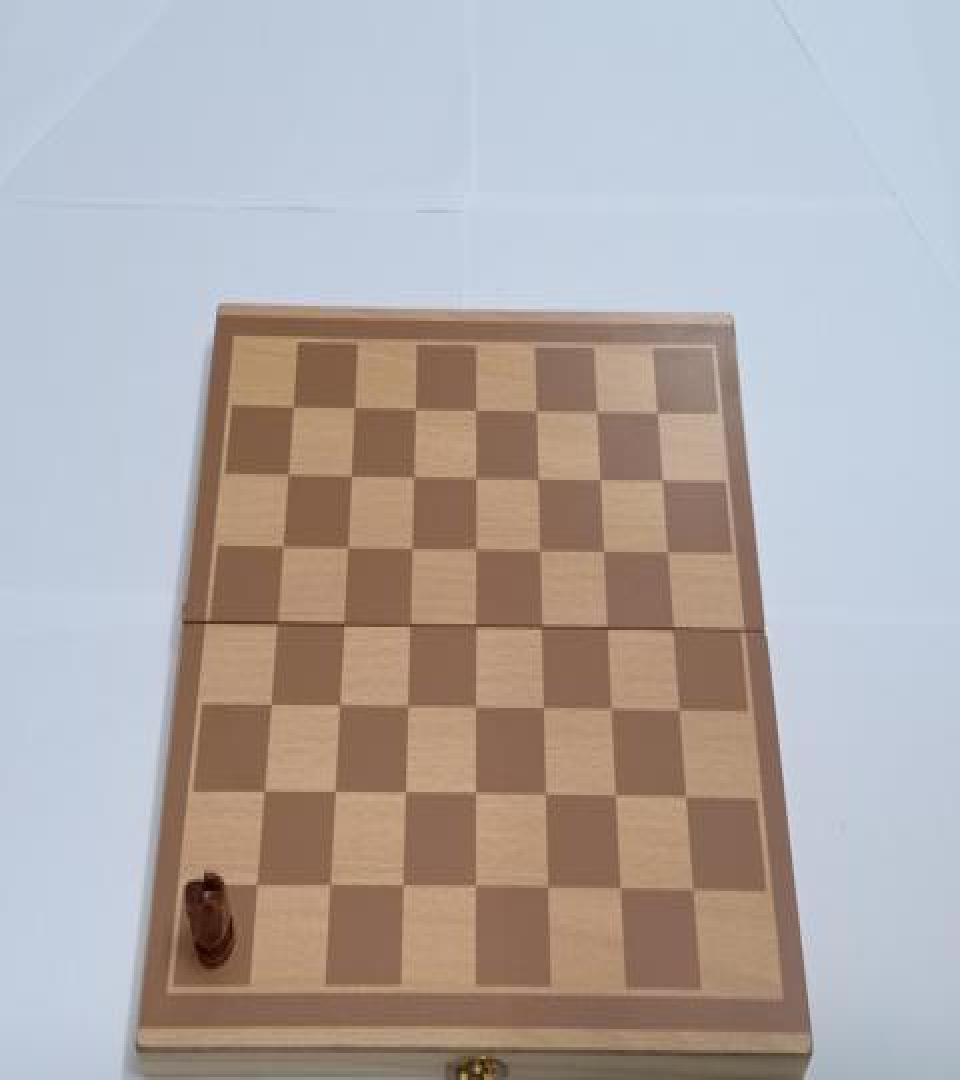xcorner: (404, 394, 422, 422), (466, 394, 484, 422), (655, 466, 673, 494), (276, 462, 294, 489), (260, 696, 278, 723), (253, 783, 271, 810), (343, 393, 361, 420), (340, 462, 358, 489), (329, 696, 347, 723), (325, 785, 343, 812), (402, 537, 420, 564), (398, 696, 416, 723), (397, 785, 415, 812), (467, 537, 485, 564), (467, 615, 485, 642), (468, 785, 486, 812), (527, 396, 545, 423), (529, 465, 547, 492), (531, 538, 549, 565), (534, 615, 552, 642), (539, 785, 557, 812), (588, 396, 606, 423), (592, 465, 610, 492), (596, 538, 614, 565), (600, 617, 618, 644), (609, 785, 627, 812), (649, 397, 667, 424), (660, 540, 678, 567), (666, 617, 684, 644), (673, 699, 691, 726), (680, 786, 698, 813), (687, 879, 705, 906), (281, 392, 299, 418), (271, 536, 289, 562), (265, 614, 283, 640), (247, 878, 265, 904), (336, 536, 354, 562), (333, 614, 351, 640), (321, 878, 339, 904), (403, 464, 421, 490), (400, 614, 418, 640), (395, 878, 413, 904), (466, 464, 484, 490), (467, 698, 485, 724), (468, 878, 486, 904), (536, 698, 554, 724), (541, 878, 559, 904), (605, 698, 623, 724), (614, 878, 632, 904)
